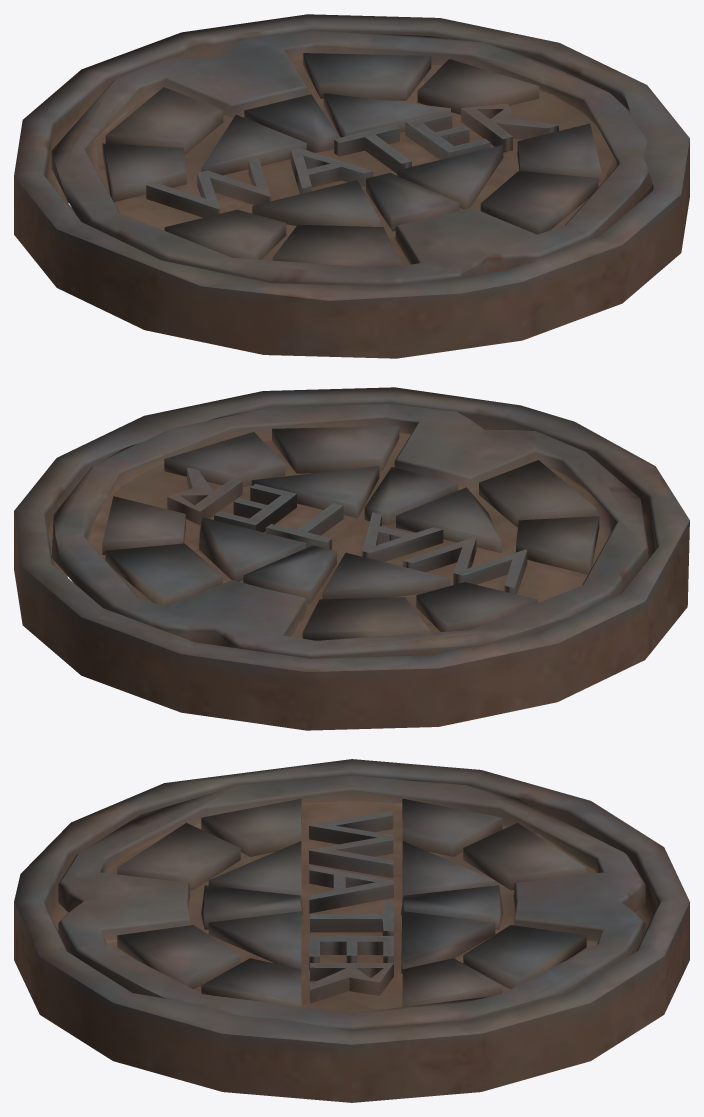
The model's file is manhole.glb.
The picture shows the model from 3 angles, top to bottom: view 1: azimuth 30°, elevation 25°; view 2: azimuth 150°, elevation 25°; view 3: azimuth 270°, elevation 25°; orthographic projection.
Visible parts, largest first — view 1: water_manhole_cover_frame; view 2: water_manhole_cover_frame; view 3: water_manhole_cover_frame.
Boxes of the visible parts, x1=… form: water_manhole_cover_frame: x1=14, y1=14, x2=689, y2=358; water_manhole_cover_frame: x1=14, y1=387, x2=689, y2=730; water_manhole_cover_frame: x1=14, y1=759, x2=689, y2=1102.
Bounding box in the file's own units: 0.6908 × 0.0676 × 0.6908.
Materials: 1 (1 with a texture image).
